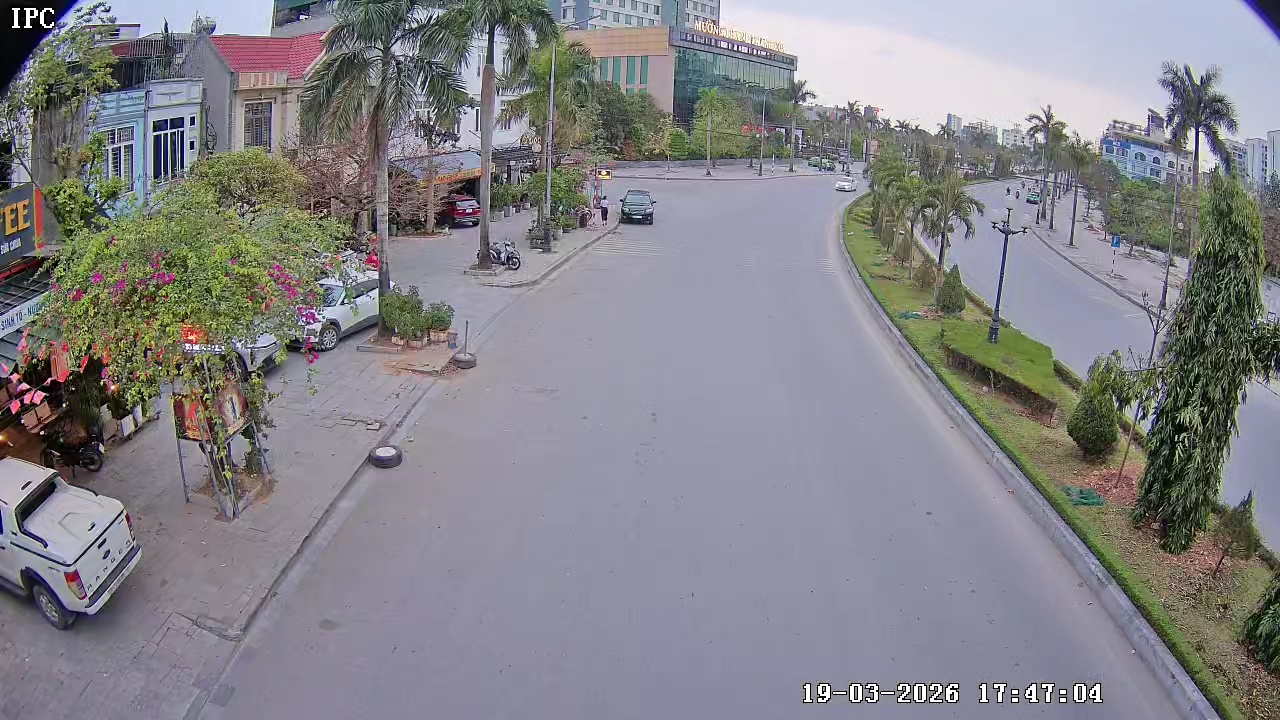car: (0, 483, 143, 630), (618, 186, 658, 225)
